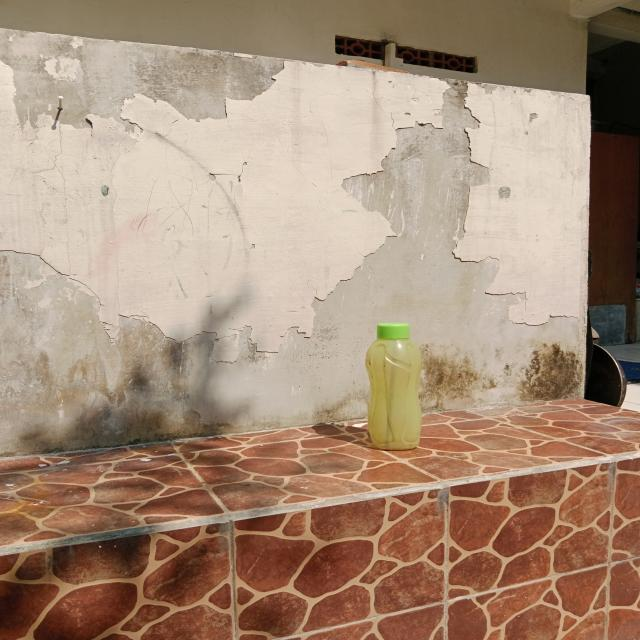botol_minum: (352, 311, 444, 461)
